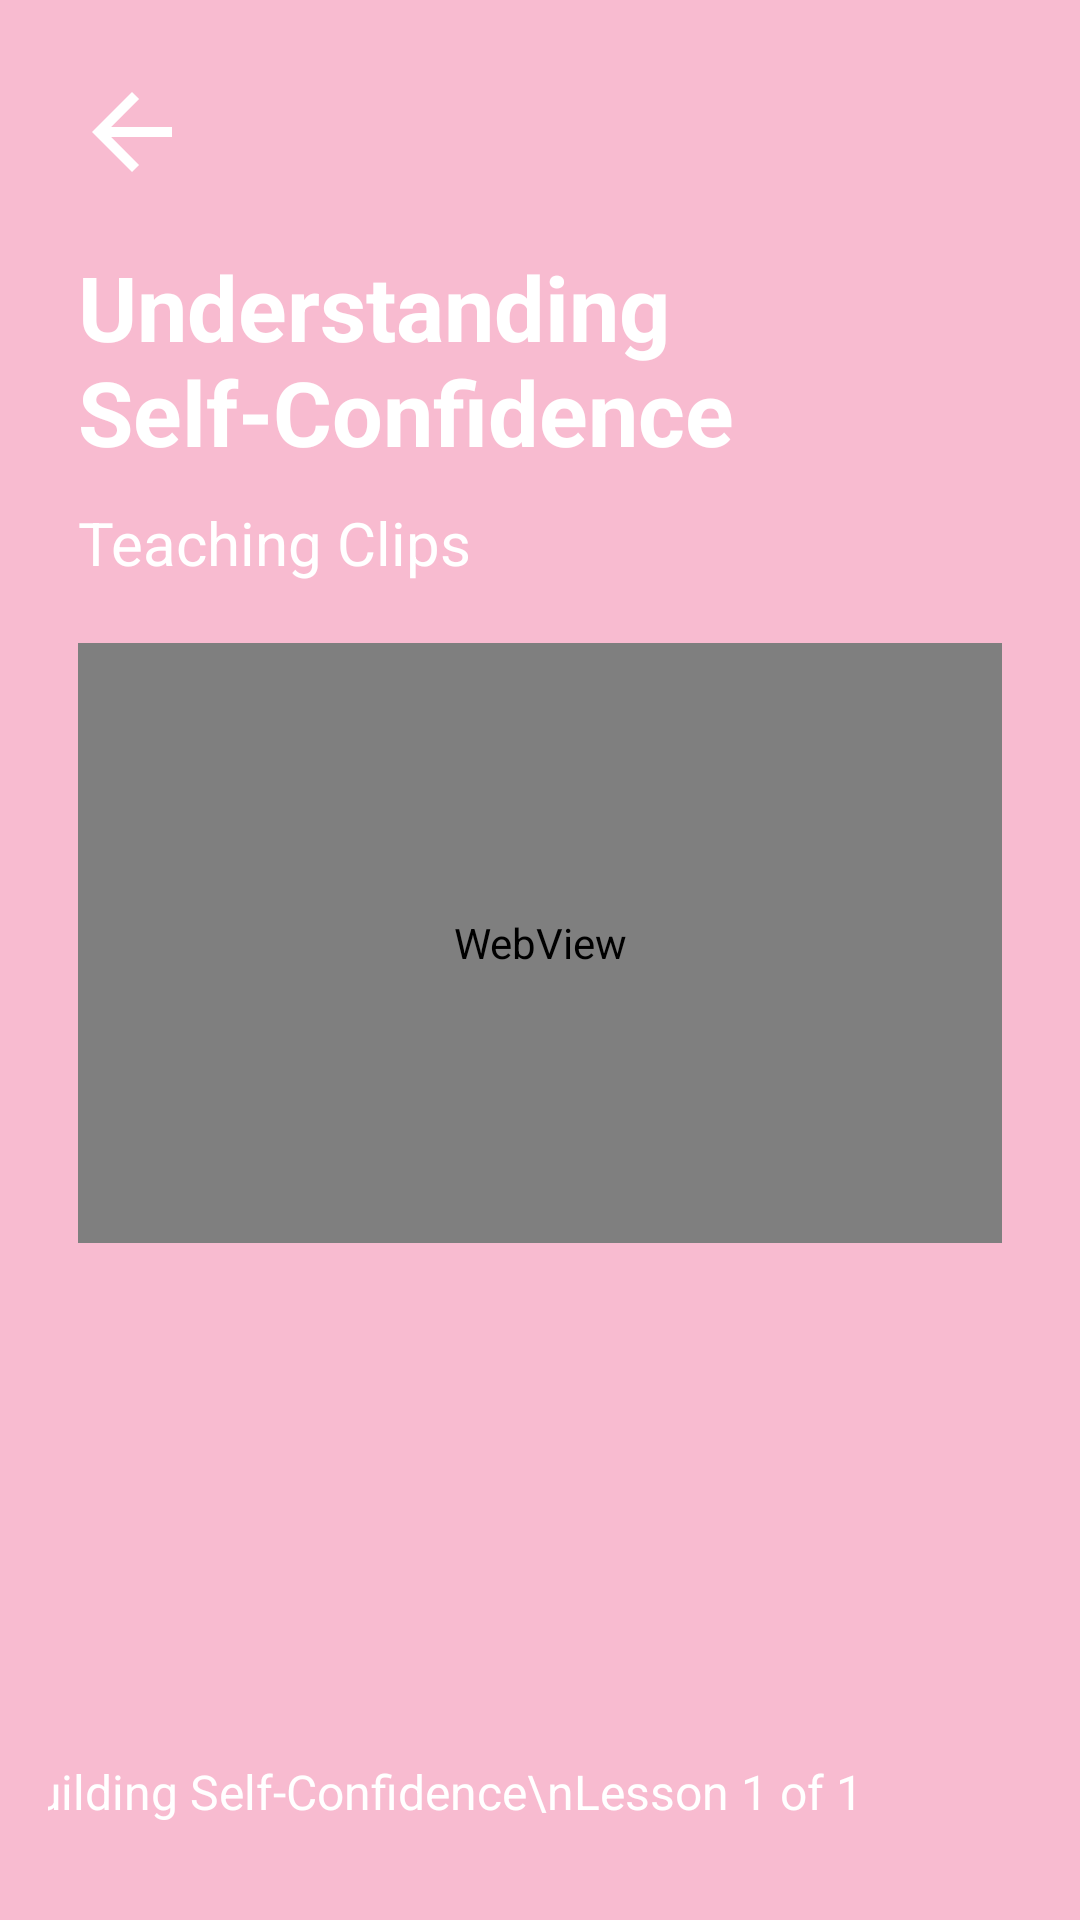

Named icons in this screenshot (1080*1920) and their bounding boxes, (x1, y1, x2, y2):
arrow back: (92, 92, 172, 172)
